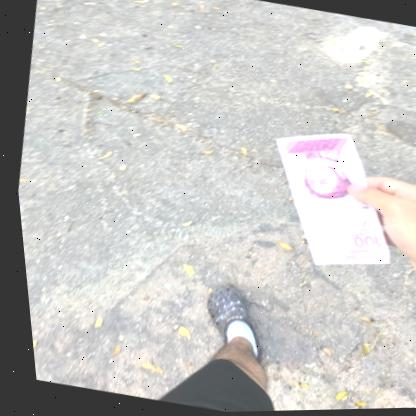one_hundred-front-vef: (249, 122, 408, 281)
